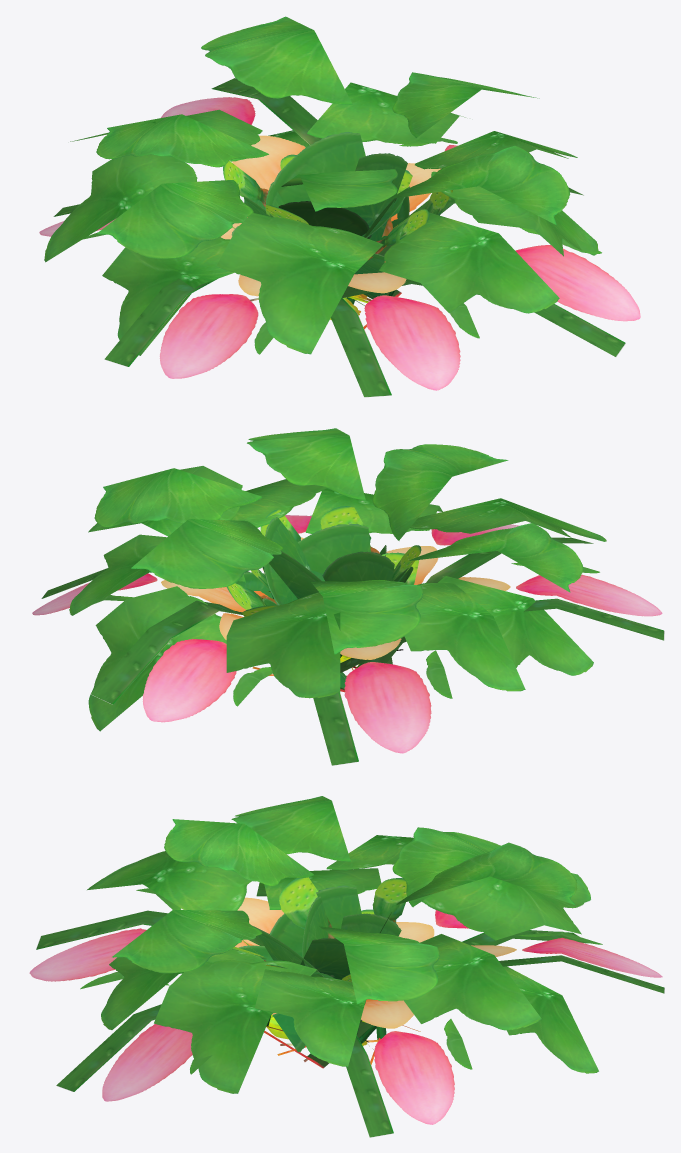
File: Scene_cao_001.FBX
3 renders of one model, top to bottom at view 1: azimuth 30°, elevation 25°; view 2: azimuth 150°, elevation 25°; view 3: azimuth 270°, elevation 25°, orthographic. The views are drawn at different scales.
Visible parts, largest first — view 1: Scene_cao_001; view 2: Scene_cao_001; view 3: Scene_cao_001.
Boxes of the visible parts, x1,y1,x2,y2 form: Scene_cao_001: [39, 16, 640, 397]; Scene_cao_001: [32, 428, 664, 765]; Scene_cao_001: [29, 796, 664, 1137].
Bounding box in the file's own units: 68.28 × 24.23 × 71.69.
